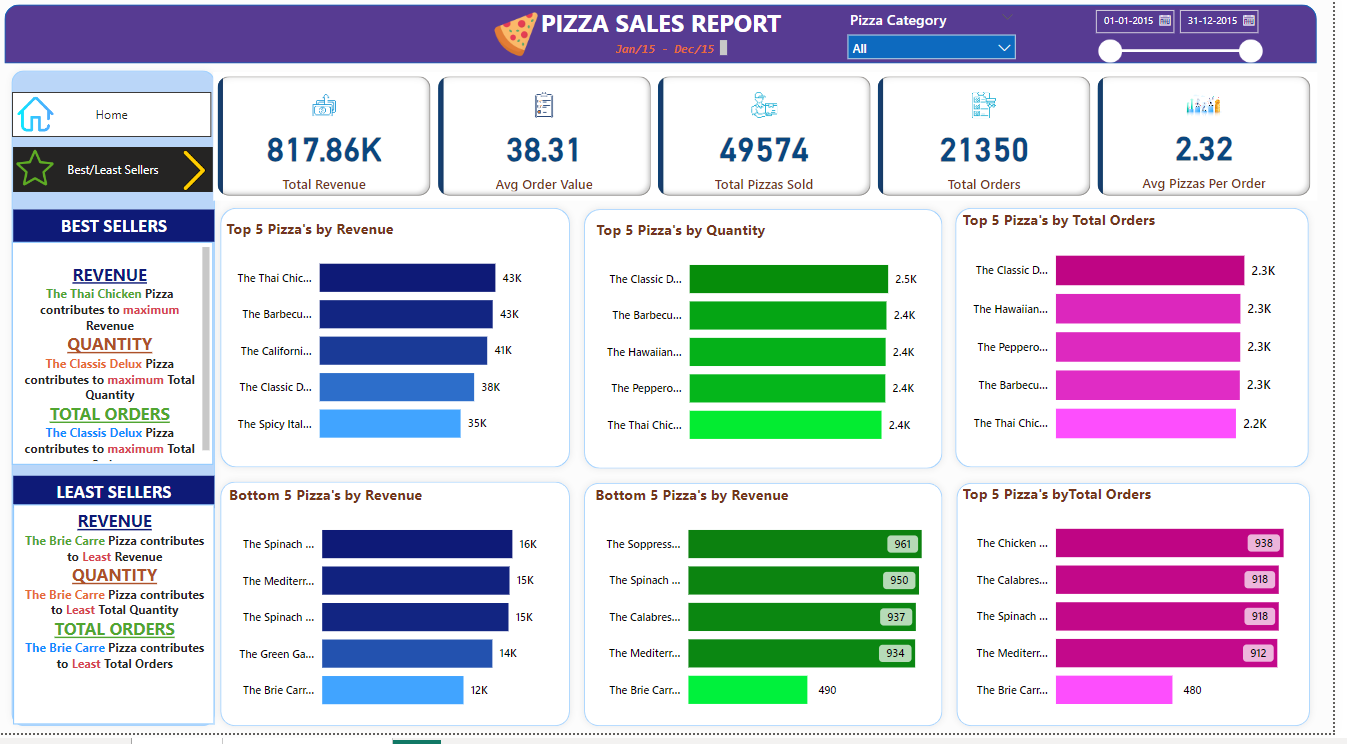

This screenshot's page, from the dashboard's own definition file:
{"tool":"powerbi","page":{"name":"Best/Least Sellers","canvas":[1500,820],"ordinal":1},"visuals":[{"type":"shape","box":[19.5,73.8,242.2,746.2],"z":0},{"type":"cardVisual","fields":{"Data":["pizza_sales.Total Revenue","pizza_sales.Avg Order Value","pizza_sales.Total Pizzas Sold","pizza_sales.Total Orders","pizza_sales.Avg Pizzas Per Order"]},"box":[252,83.5,1229.3,143.4],"z":1000},{"type":"shape","box":[20,8.6,1461.4,65.7],"z":2000},{"type":"textbox","box":[607.1,5.7,287.1,50],"z":3000},{"type":"textbox","box":[694.3,42.9,134.3,27.1],"z":4000},{"type":"image","box":[556.9,11.1,64,59.9],"z":5000},{"type":"shape","box":[252,226.9,405.1,304.9],"z":6000},{"type":"textbox","box":[29.2,236.7,224.1,36.2],"z":7000},{"type":"textbox","box":[27.8,272.9,224.1,247.8],"z":8000},{"type":"textbox","box":[29.2,533.2,224.1,36.2],"z":9000},{"type":"textbox","box":[29.2,565.2,224.1,245],"z":10000},{"type":"slicer","fields":{"Values":["pizza_sales.pizza_category"]},"box":[948.1,8.4,207.4,62.6],"z":11000},{"type":"slicer","fields":{"Values":["pizza_sales.order_date"]},"box":[1222.3,4.2,206,69.6],"z":12000},{"type":"shape","box":[252,531.8,405.1,288.2],"z":13000},{"type":"shape","box":[657.1,228.3,414.9,304.9],"z":14000},{"type":"shape","box":[1070.6,226.9,409.3,304.9],"z":15000},{"type":"shape","box":[657.1,533.2,414.9,286.8],"z":16000},{"type":"shape","box":[1072,533.2,409.3,286.8],"z":17000},{"type":"barChart","title":"Top 5 Pizza''s by Revenue","fields":{"Category":["pizza_sales.pizza_name"],"Y":["pizza_sales.Total Revenue"]},"box":[262.1,246,384.3,266.9],"z":18000},{"type":"barChart","title":"Bottom 5 Pizza''s by Revenue","fields":{"Category":["pizza_sales.pizza_name"],"Y":["pizza_sales.Total Revenue"]},"box":[264.5,543,385.6,267.3],"z":19000},{"type":"barChart","title":"Top 5 Pizza''s by Quantity","fields":{"Category":["pizza_sales.pizza_name"],"Y":["pizza_sales.Total Pizzas Sold"]},"box":[673.8,247.6,384.3,266.9],"z":20000},{"type":"barChart","title":"Bottom 5 Pizza''s by Revenue","fields":{"Category":["pizza_sales.pizza_name"],"Y":["pizza_sales.Total Pizzas Sold"]},"box":[672.2,543.5,384.3,266.9],"z":21000},{"type":"barChart","title":"Top 5 Pizza''s by Total Orders","fields":{"Category":["pizza_sales.pizza_name"],"Y":["pizza_sales.Total Orders"]},"box":[1082.2,236.4,384.3,278.2],"z":21001},{"type":"barChart","title":"Top 5 Pizza''s byTotal Orders","fields":{"Category":["pizza_sales.pizza_name"],"Y":["pizza_sales.Total Orders"]},"box":[1082.2,541.9,384.3,268.5],"z":21002},{"type":"pageNavigator","box":[29.2,167.1,222.8,50.1],"z":21003},{"type":"pageNavigator","box":[27.8,105.8,222.8,50.1],"z":21004},{"type":"image","box":[200.5,165.7,61.3,54.3],"z":21005},{"type":"image","box":[29.2,101.6,50.1,57.1],"z":21006},{"type":"image","box":[27.8,162.9,51.5,54.3],"z":21007}]}

Visuals, with their boxes in screenshot pixels (x1, y1, x2, y2), scaled from the page's 1500x820 canvas onto the 1347x744 screenshot:
shape: (18, 67, 235, 743)
cardVisual - pizza_sales.Total Revenue x pizza_sales.Avg Order Value: (226, 76, 1330, 206)
shape: (18, 8, 1330, 67)
textbox: (545, 5, 803, 51)
textbox: (623, 39, 744, 64)
image: (500, 10, 558, 64)
shape: (226, 206, 590, 483)
textbox: (26, 215, 227, 248)
textbox: (25, 248, 226, 472)
textbox: (26, 484, 227, 517)
textbox: (26, 513, 227, 735)
slicer - pizza_sales.pizza_category: (851, 8, 1038, 64)
slicer - pizza_sales.order_date: (1098, 4, 1283, 67)
shape: (226, 483, 590, 743)
shape: (590, 207, 963, 484)
shape: (961, 206, 1329, 483)
shape: (590, 484, 963, 743)
shape: (963, 484, 1330, 743)
"Top 5 Pizza''s by Revenue" barChart: (235, 223, 580, 465)
"Bottom 5 Pizza''s by Revenue" barChart: (238, 493, 584, 735)
"Top 5 Pizza''s by Quantity" barChart: (605, 225, 950, 467)
"Bottom 5 Pizza''s by Revenue" barChart: (604, 493, 949, 735)
"Top 5 Pizza''s by Total Orders" barChart: (972, 214, 1317, 467)
"Top 5 Pizza''s byTotal Orders" barChart: (972, 492, 1317, 735)
pageNavigator: (26, 152, 226, 197)
pageNavigator: (25, 96, 225, 141)
image: (180, 150, 235, 200)
image: (26, 92, 71, 144)
image: (25, 148, 71, 197)
